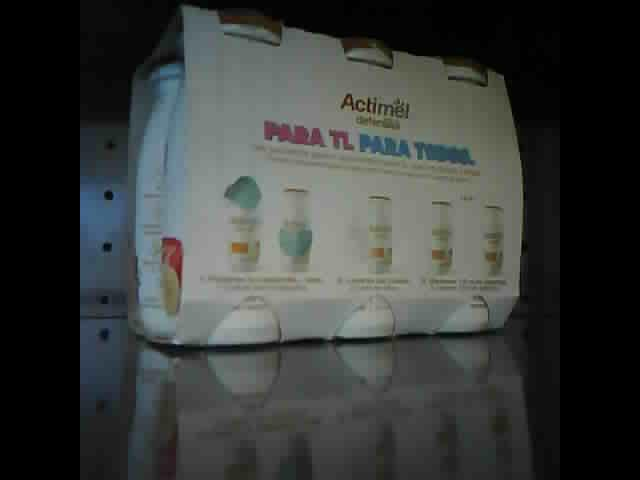actimel: (125, 4, 526, 350)
